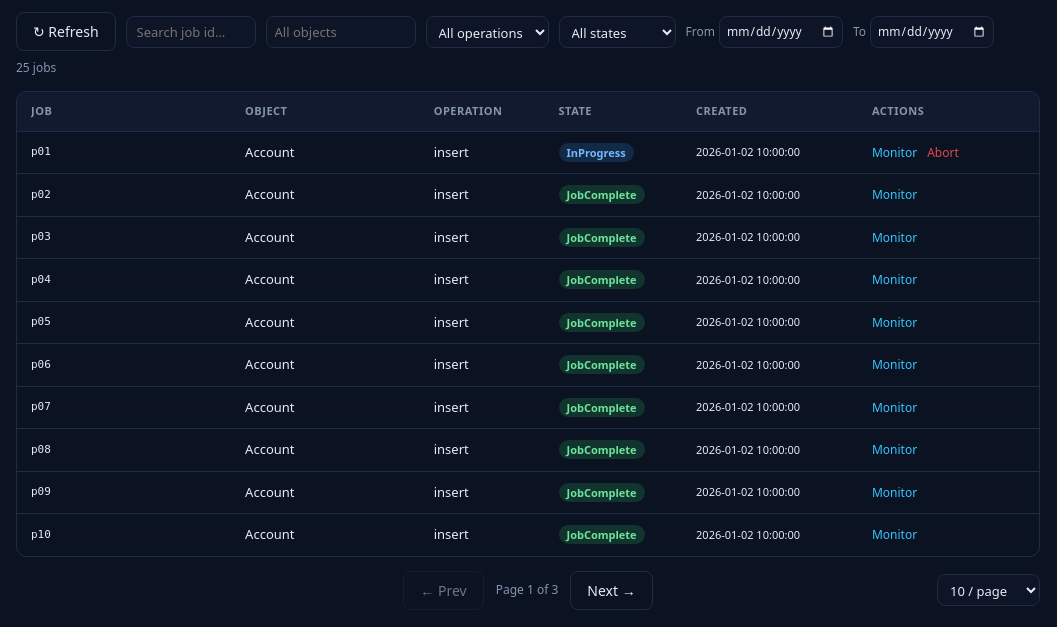
Test: JobsPanel › Next is disabled on the last (partial) page
Click the button "Next →". click: x=612, y=590
box: [570,570,653,610]
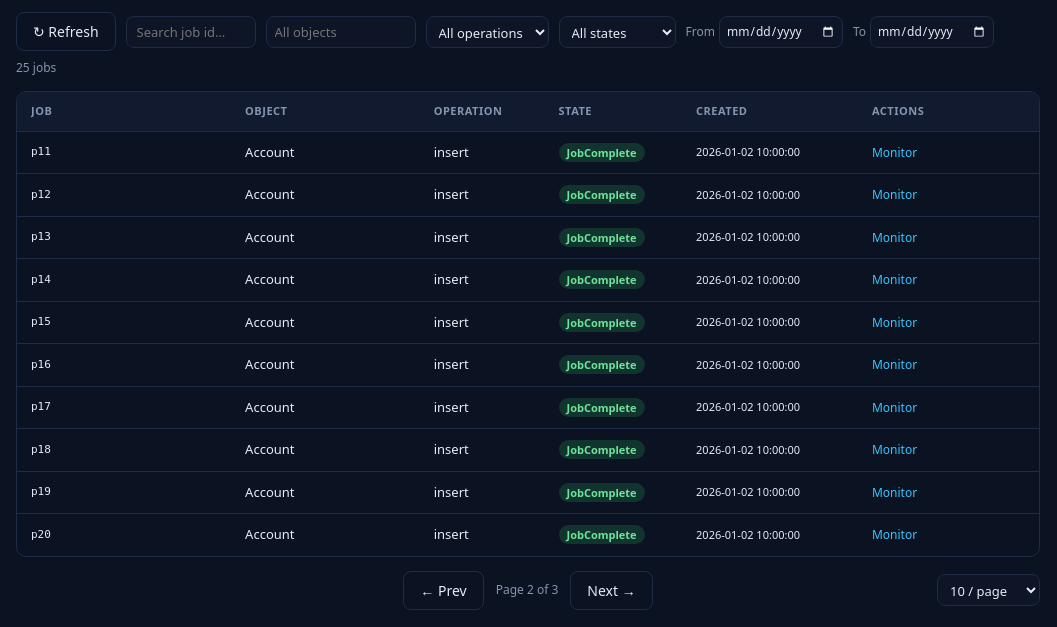
Click the button "Next →". click: x=612, y=590
box: [570,570,653,610]
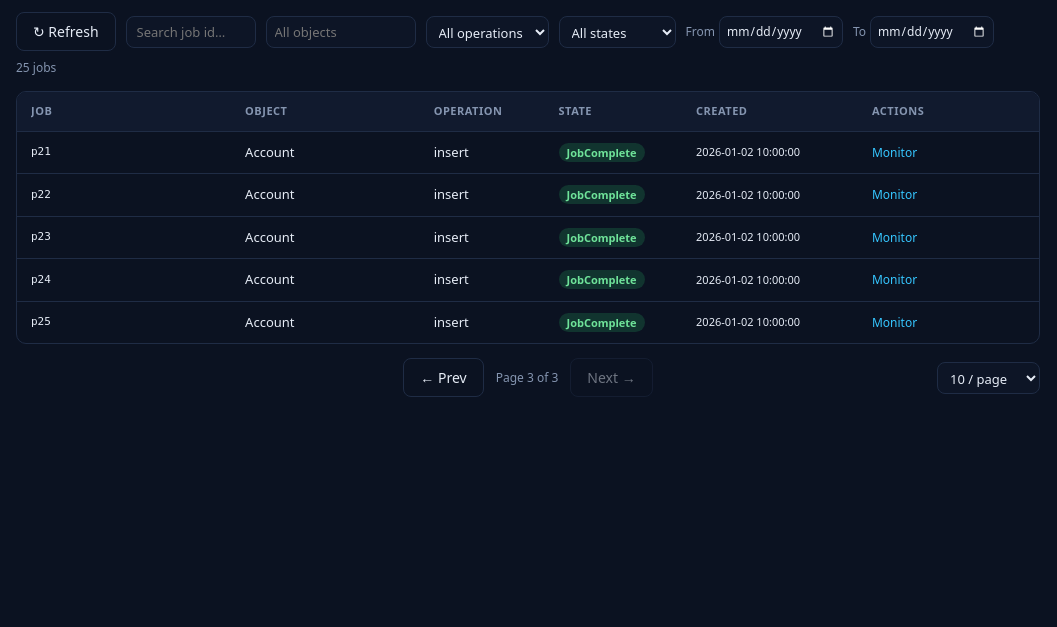
Check: the text "Page 3 of 3" is shown, box [496,368,558,386]
Check: the text "p21" is shown 5 times, box [31,145,51,158]; [31,188,51,200]; [31,230,51,243]; [31,272,51,286]; [31,315,51,328]
Check: the button "Next →" is disabled, box [570,358,653,397]
